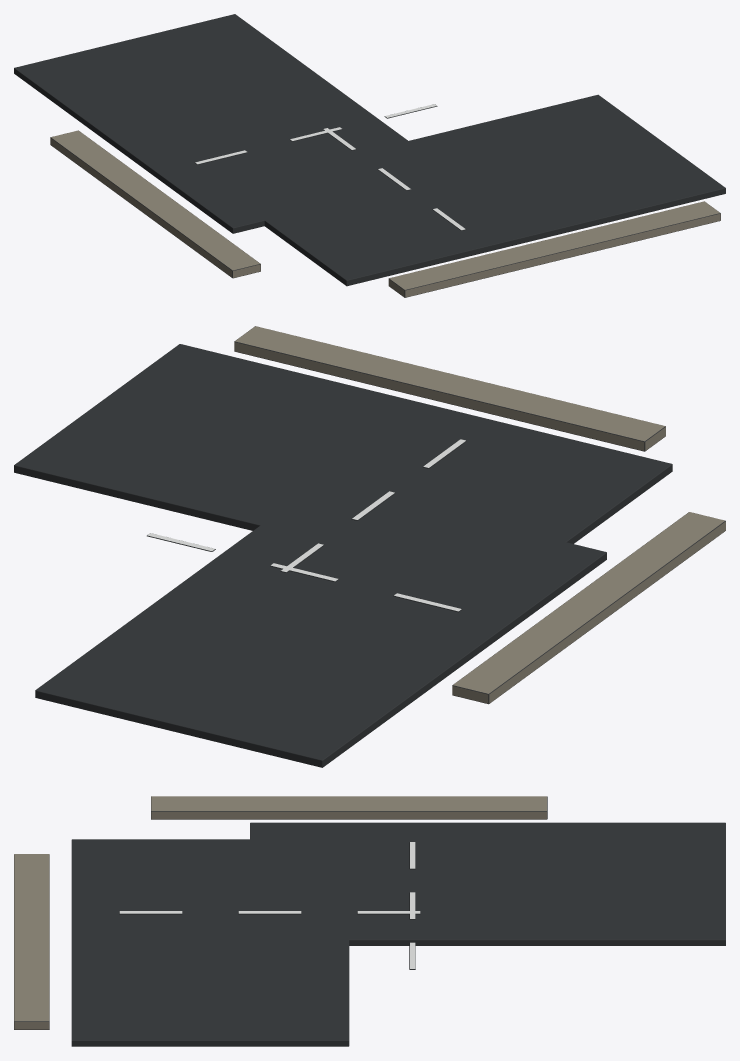
File: prp_road_corner.glb
3 renders of one model, top to bottom at view 1: azimuth 30°, elevation 25°; view 2: azimuth 150°, elevation 25°; view 3: azimuth 270°, elevation 25°, orthographic. The views are drawn at different scales.
Parts seen in each view (by area): view 1: prp_road_corner; view 2: prp_road_corner; view 3: prp_road_corner.
Part boxes in pixels (left/top/right/bottom): prp_road_corner: left=14, top=14, right=725, bottom=297; prp_road_corner: left=14, top=326, right=725, bottom=767; prp_road_corner: left=14, top=796, right=725, bottom=1046.
Bounding box in the file's own units: 14.45 × 0.24 × 17.95.
